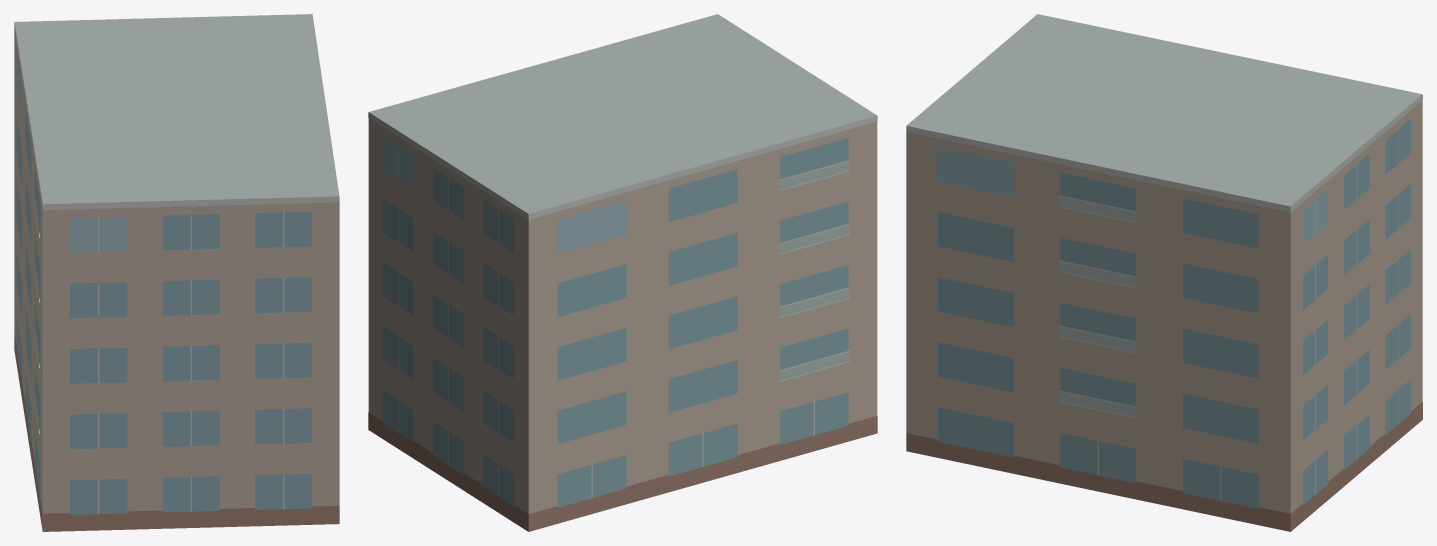
File: survey-upis-32893112.glb
3 renders of one model, left to right at view 1: azimuth 30°, elevation 25°; view 2: azimuth 150°, elevation 25°; view 3: azimuth 270°, elevation 25°, orthographic. The views are drawn at different scales.
Visible parts, largest first — view 1: survey-upis-32893112.tmp; view 2: survey-upis-32893112.tmp; view 3: survey-upis-32893112.tmp.
Part boxes in pixels (x1,y1,x2,y2): survey-upis-32893112.tmp: [14, 14, 339, 531]; survey-upis-32893112.tmp: [368, 14, 877, 531]; survey-upis-32893112.tmp: [906, 14, 1422, 531].
Bounding box in the file's own units: 16.76 × 13.2 × 19.
